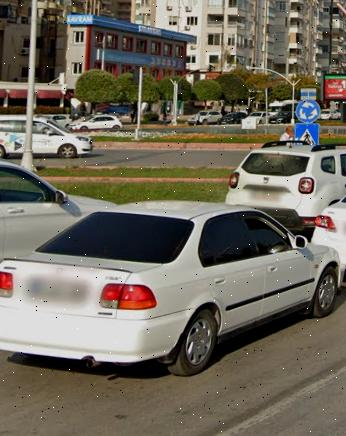crossroads: (296, 102, 320, 123)
